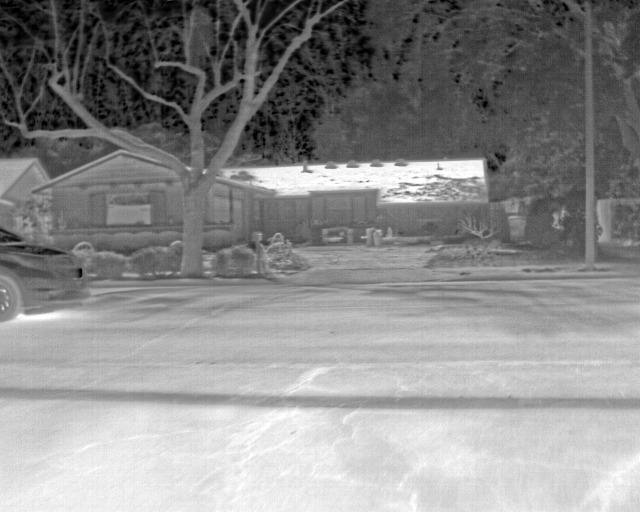vehicle: (1, 221, 89, 319)
